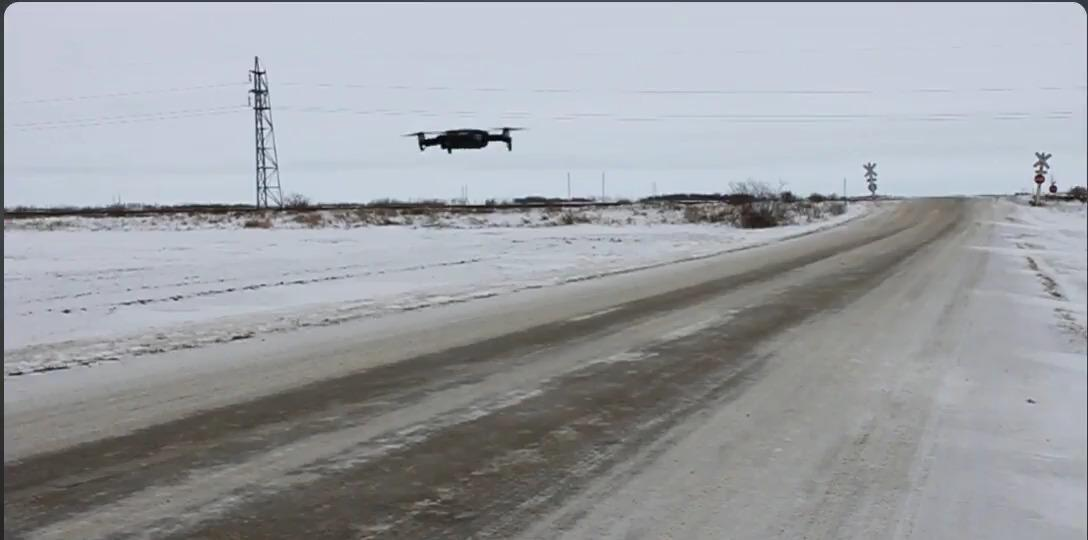dr: (388, 102, 541, 179)
